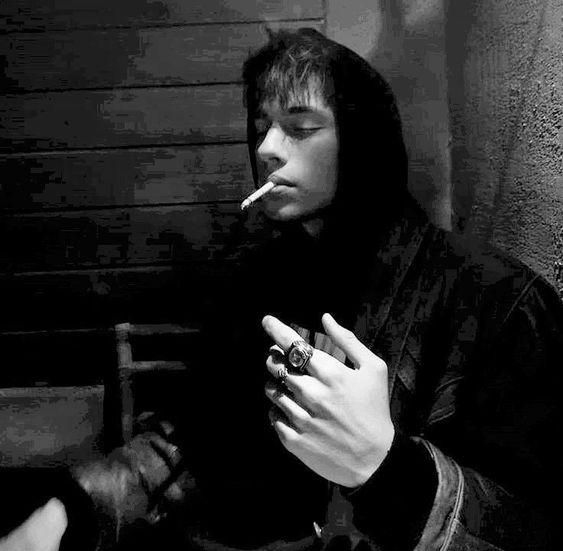cigarette: (240, 182, 276, 213)
